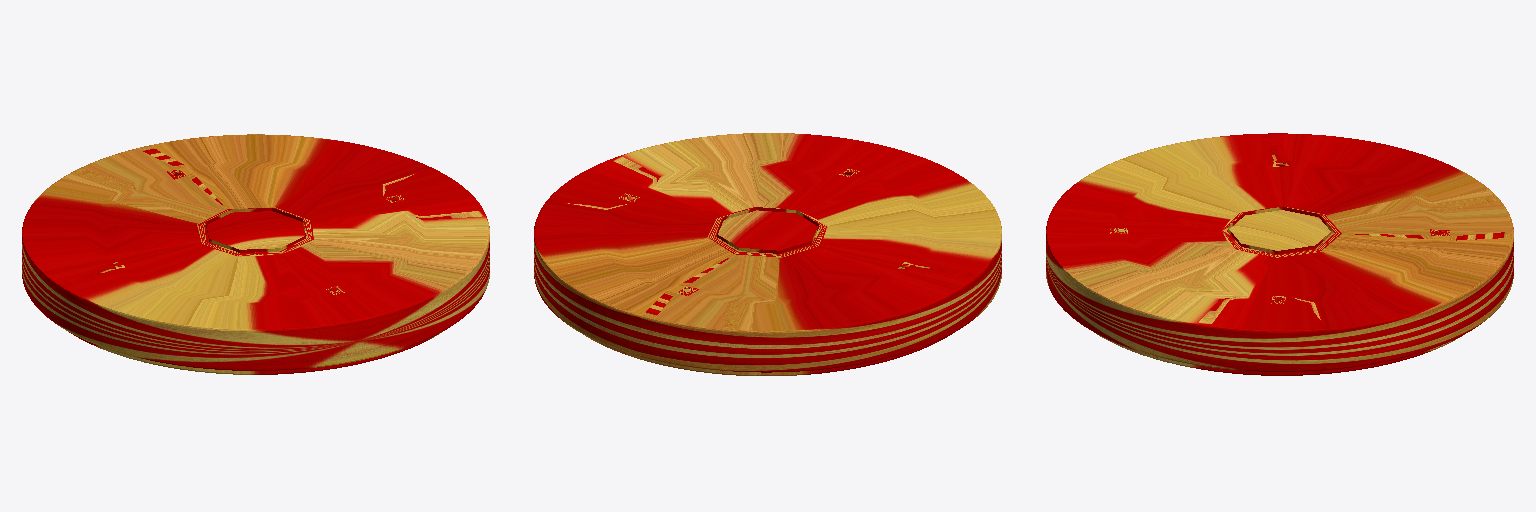
3 renders of one model, left to right at view 1: azimuth 30°, elevation 25°; view 2: azimuth 150°, elevation 25°; view 3: azimuth 270°, elevation 25°, orthographic.
Visible parts, largest first — view 1: _carousel_v1:_carousel_v1; view 2: _carousel_v1:_carousel_v1; view 3: _carousel_v1:_carousel_v1.
Boxes of the visible parts, x1=… form: _carousel_v1:_carousel_v1: x1=22, y1=134, x2=489, y2=374; _carousel_v1:_carousel_v1: x1=534, y1=133, x2=1001, y2=375; _carousel_v1:_carousel_v1: x1=1046, y1=133, x2=1513, y2=375.
Size of the model in its own units: 9.36 by 1.21 by 9.37.
1 materials, 1 textured.